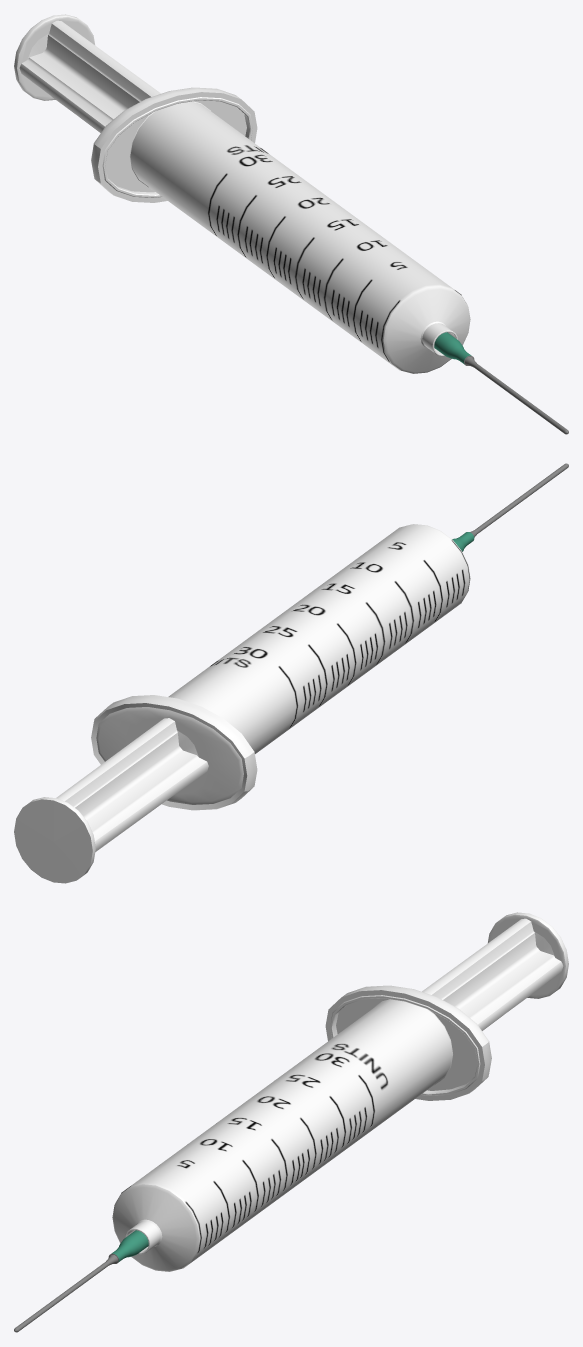
3 renders of one model, top to bottom at view 1: azimuth 30°, elevation 25°; view 2: azimuth 150°, elevation 25°; view 3: azimuth 330°, elevation 25°, orthographic.
Visible parts, largest first — view 1: syringe_v2; view 2: syringe_v2; view 3: syringe_v2.
Part boxes in pixels (x1,y1,x2,y2): syringe_v2: [14, 14, 568, 434]; syringe_v2: [14, 463, 568, 883]; syringe_v2: [14, 912, 568, 1332].
Bounding box in the file's own units: 0.3465 × 0.2154 × 1.94.
Materials: 1 (1 with a texture image).
